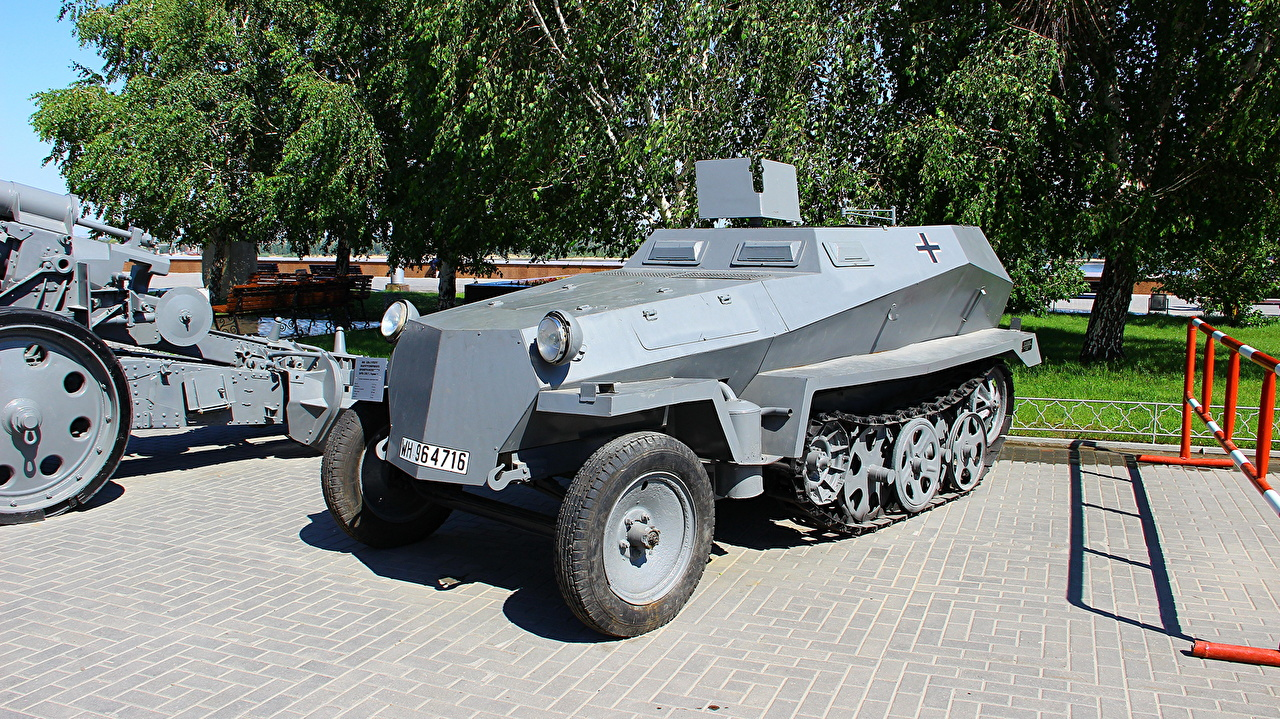btr: (308, 159, 1029, 626)
warauto: (1, 192, 379, 528)
